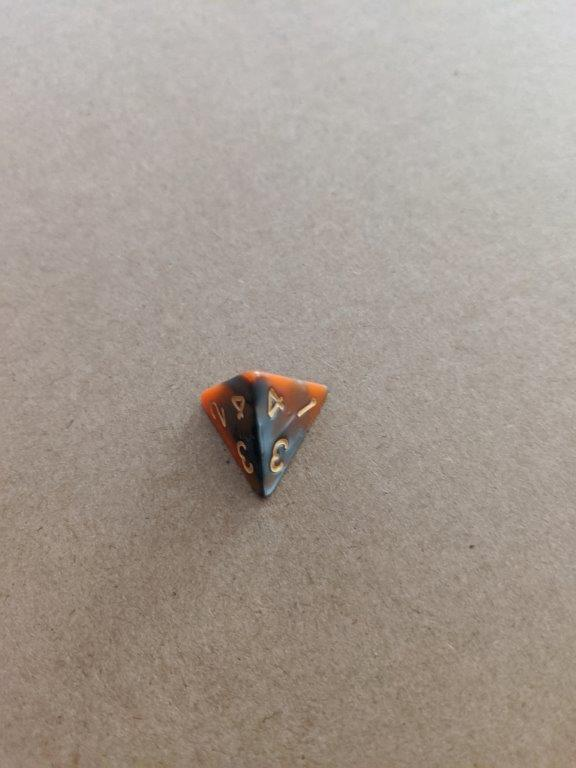d4-4: (197, 370, 333, 500)
